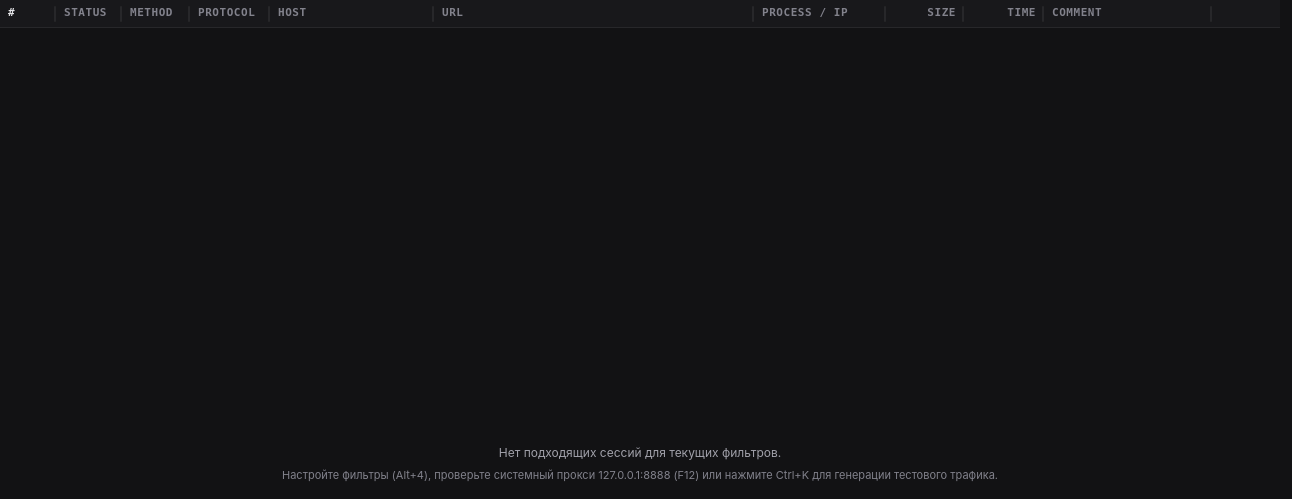
Test: Integrated component right-click menus › opens unified context menus on TrafficGrid empty area, SessionInspector header row, AutoResponder rule, Scripting console log, Sidebar, and CollapsedInspectorBa
Later steps or results of the test are not shown.
Right-click the text "Нет подходящих сессий для текущих фильтров." at (640, 453), box [499,445,781,461]
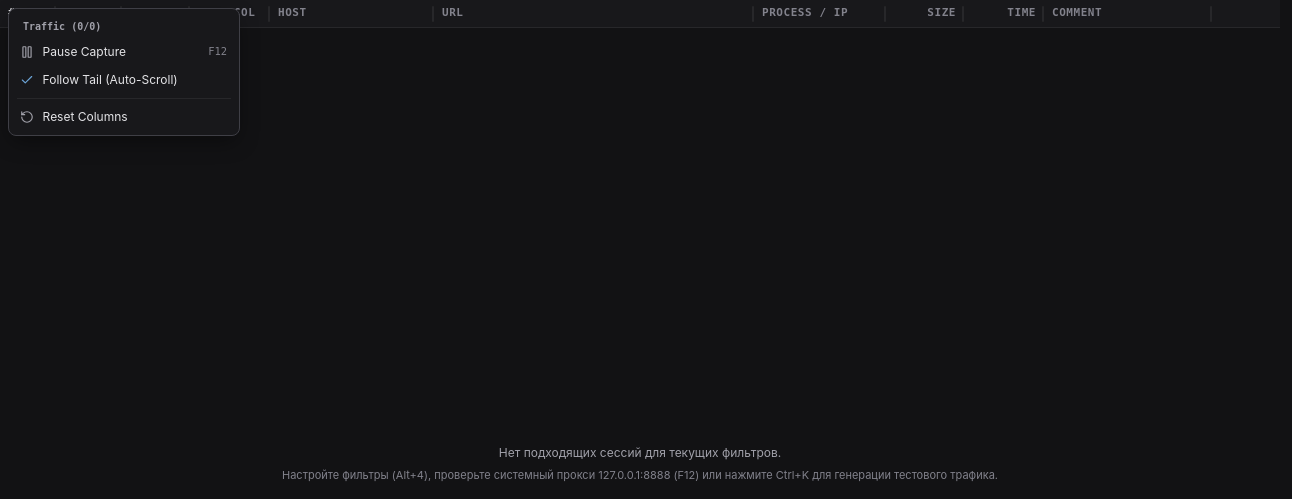
expect the menu named "Действия таблицы Traffic" is shown: met, box [9,9,239,135]
